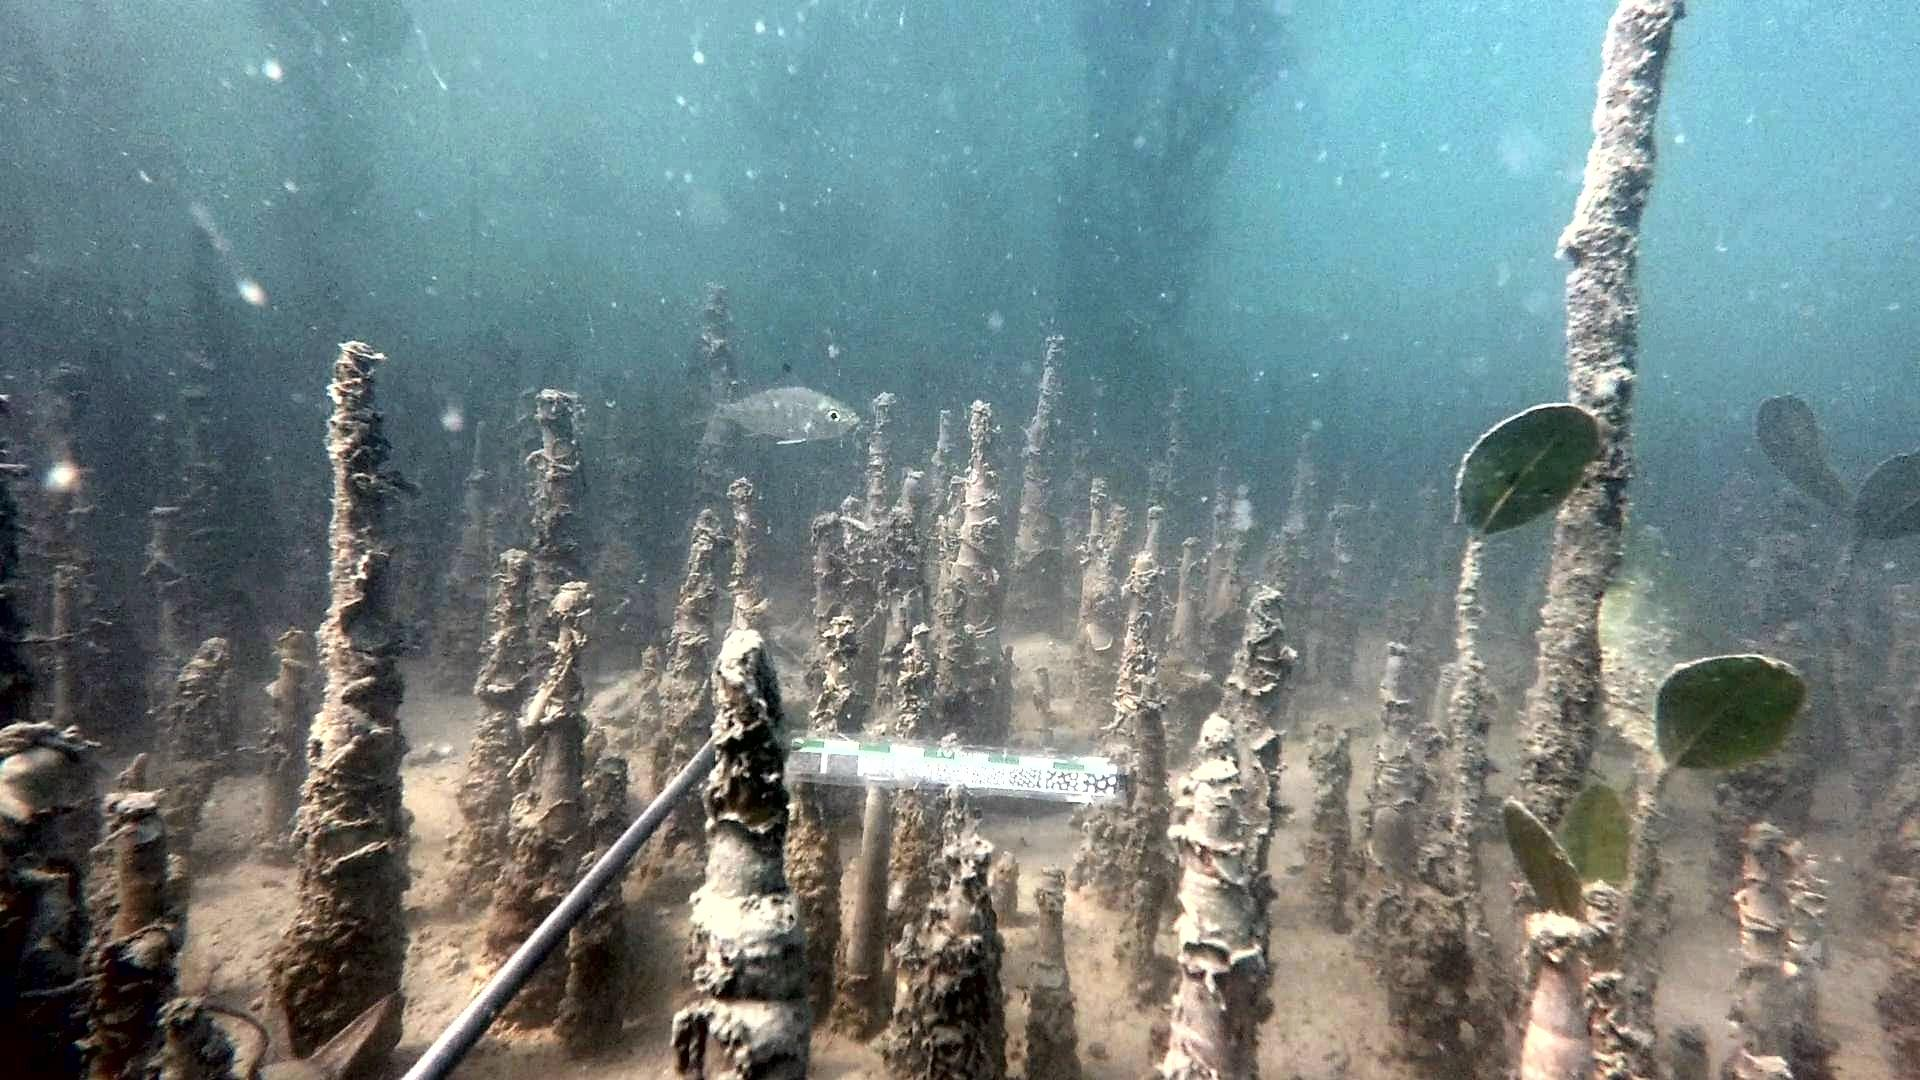gerres: (676, 361, 861, 447)
